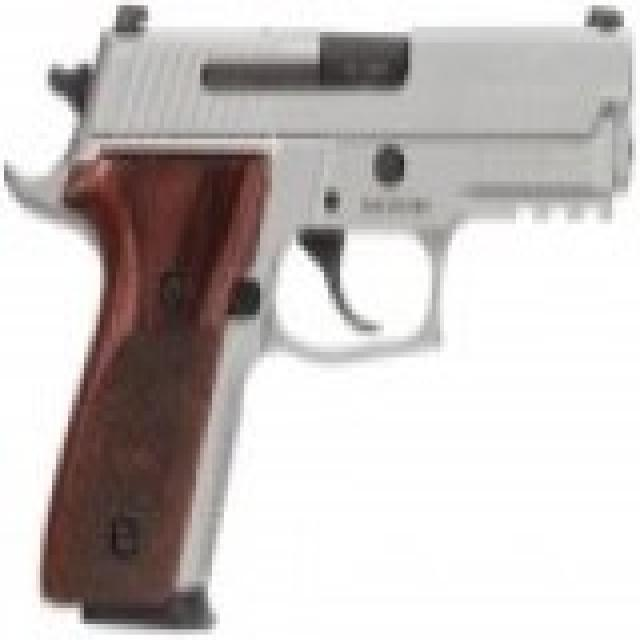weapon: (8, 5, 632, 619)
